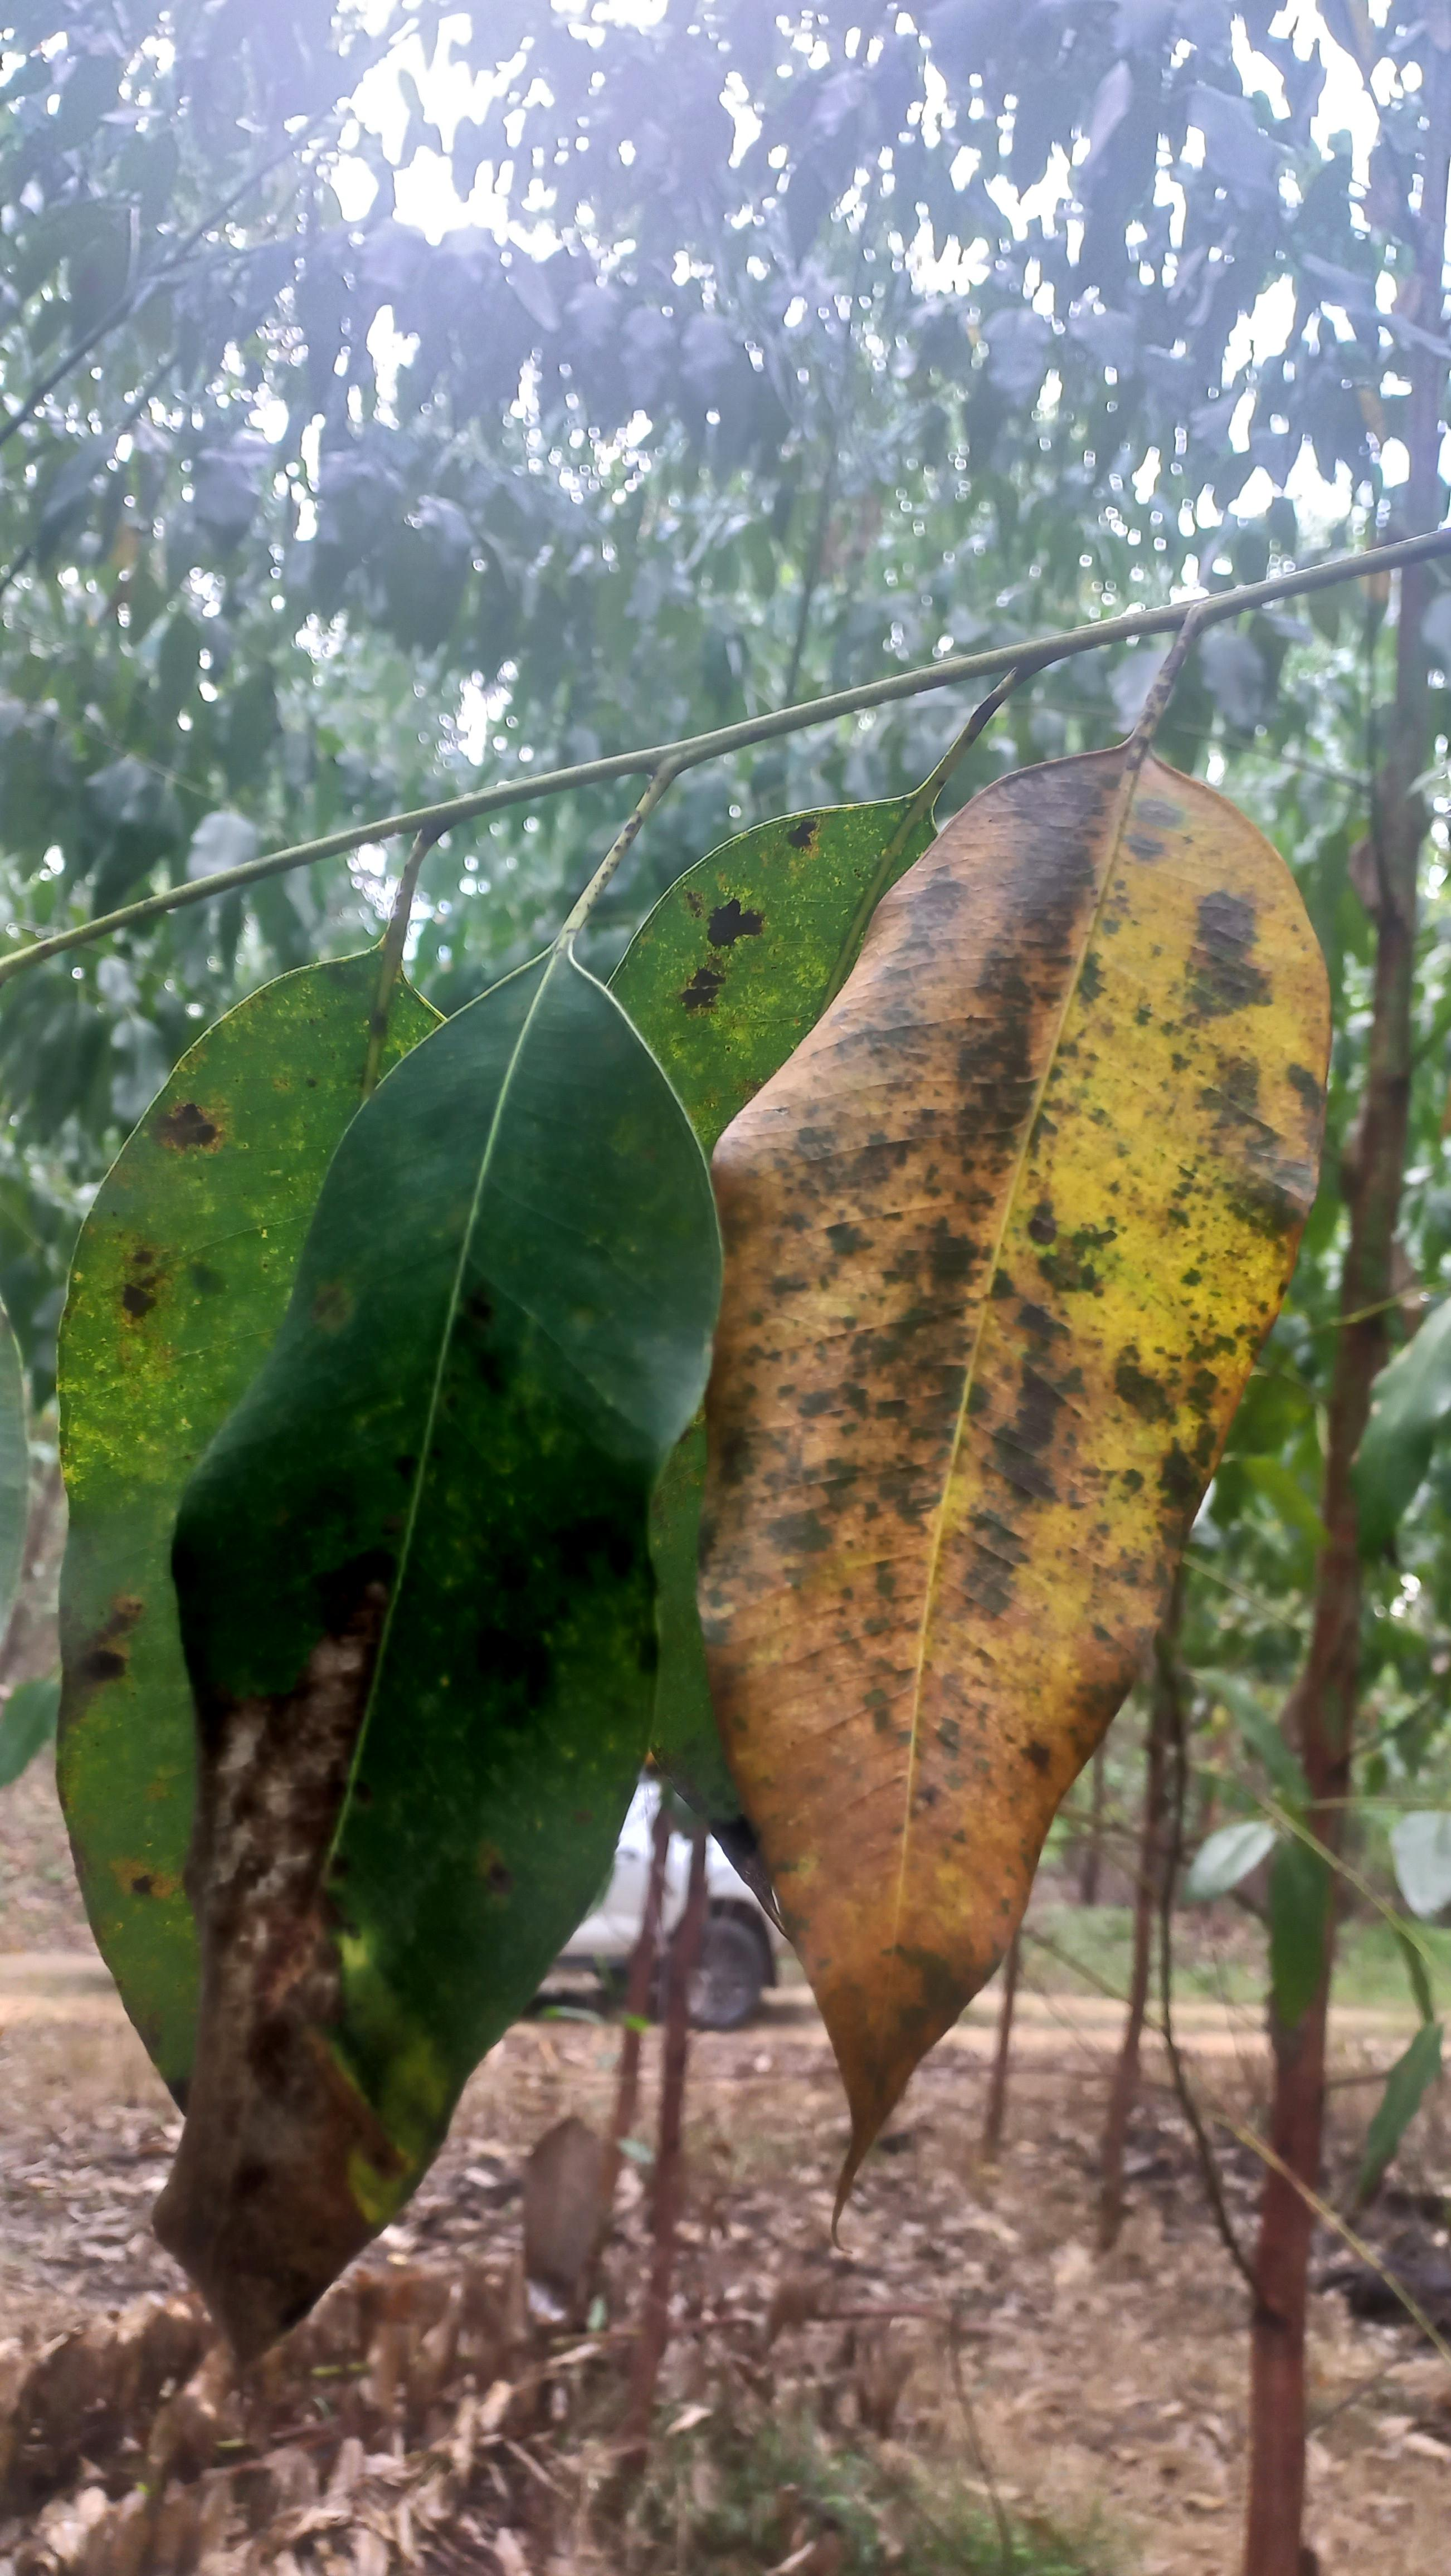Cylindrocladium: (658, 754, 1336, 2196), (179, 1605, 391, 2298)
Embun Jelaga: (441, 1037, 720, 1734)
